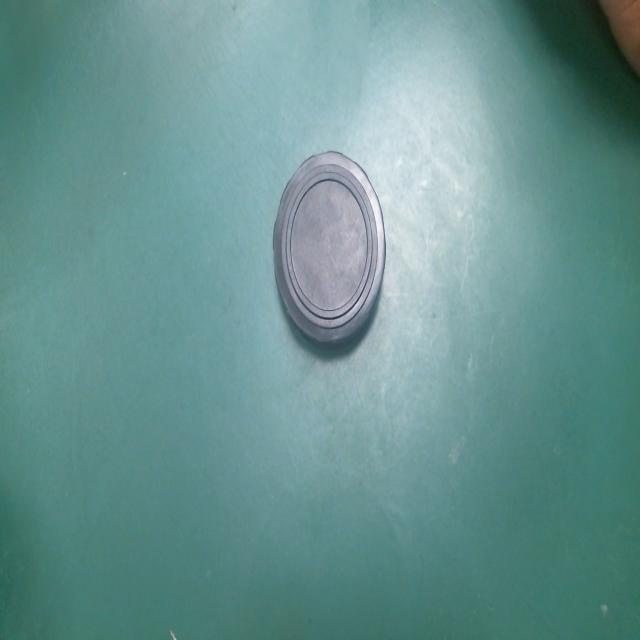cover: (271, 151, 388, 358)
